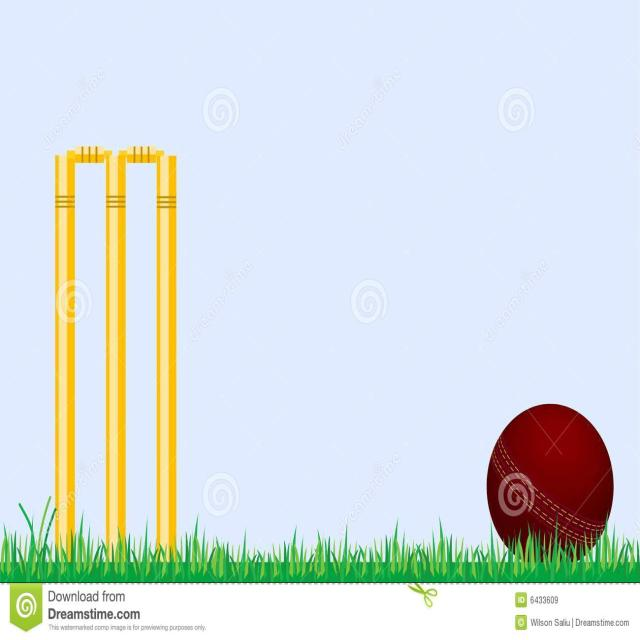stump: (54, 144, 180, 562)
